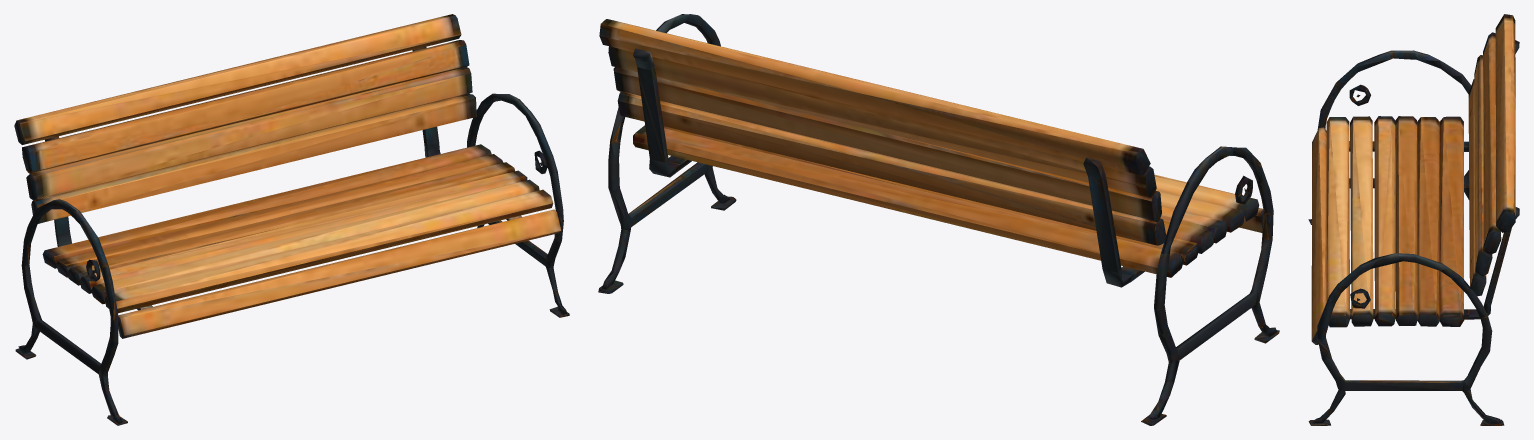
Rendered from park-bench.lod1.glb.
3 views of the same model, side by side, from view 1: azimuth 30°, elevation 25°; view 2: azimuth 150°, elevation 25°; view 3: azimuth 270°, elevation 25° (orthographic). The views are drawn at different scales.
Bounding box in the file's own units: 1.6 × 0.7639 × 0.6962.
1 material, 1 textured.
